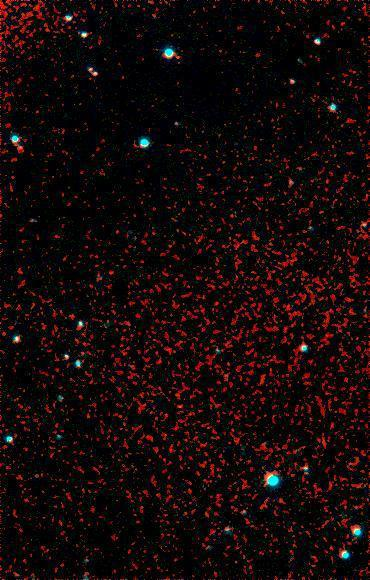star: (251, 481, 281, 511)
